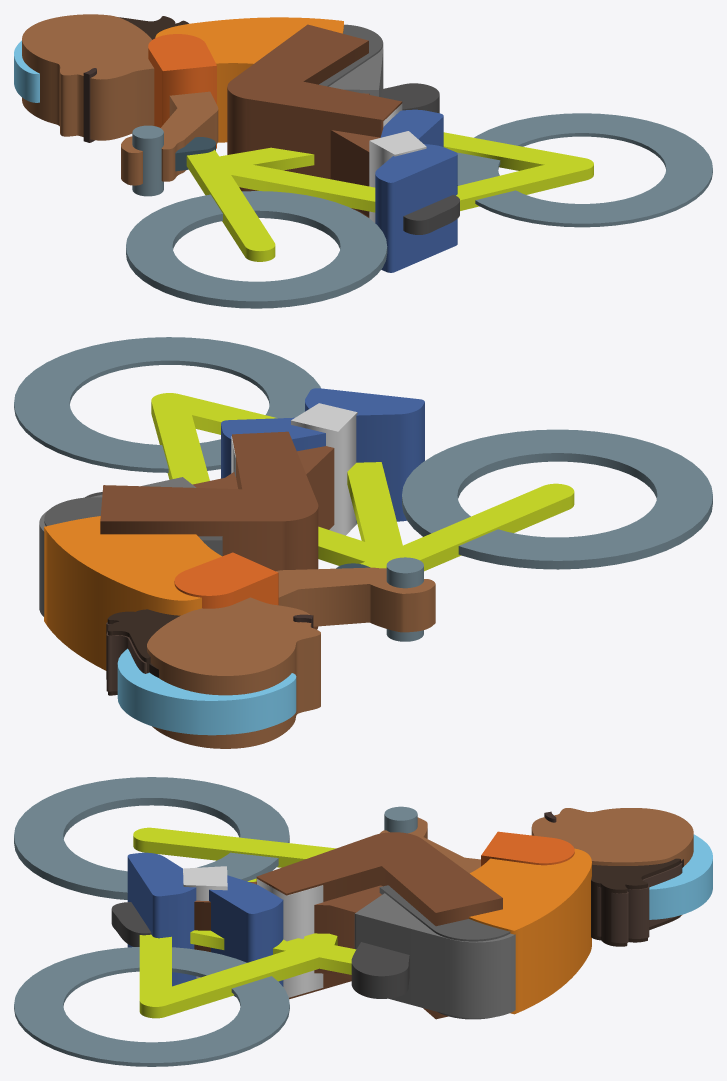
The model's file is emoji_u1f6b4_1f3fe.glb.
3 renders of one model, top to bottom at view 1: azimuth 30°, elevation 25°; view 2: azimuth 150°, elevation 25°; view 3: azimuth 270°, elevation 25°, orthographic. The views are drawn at different scales.
Visible parts, largest first — view 1: emoji_u1f6b4_1f3fe; view 2: emoji_u1f6b4_1f3fe; view 3: emoji_u1f6b4_1f3fe.
Boxes of the visible parts, <box> form: emoji_u1f6b4_1f3fe: <box>14,14,712,308</box>; emoji_u1f6b4_1f3fe: <box>14,337,712,748</box>; emoji_u1f6b4_1f3fe: <box>14,777,712,1066</box>.
Size of the model in its own units: 0.0321 by 0.0056 by 0.0334.
